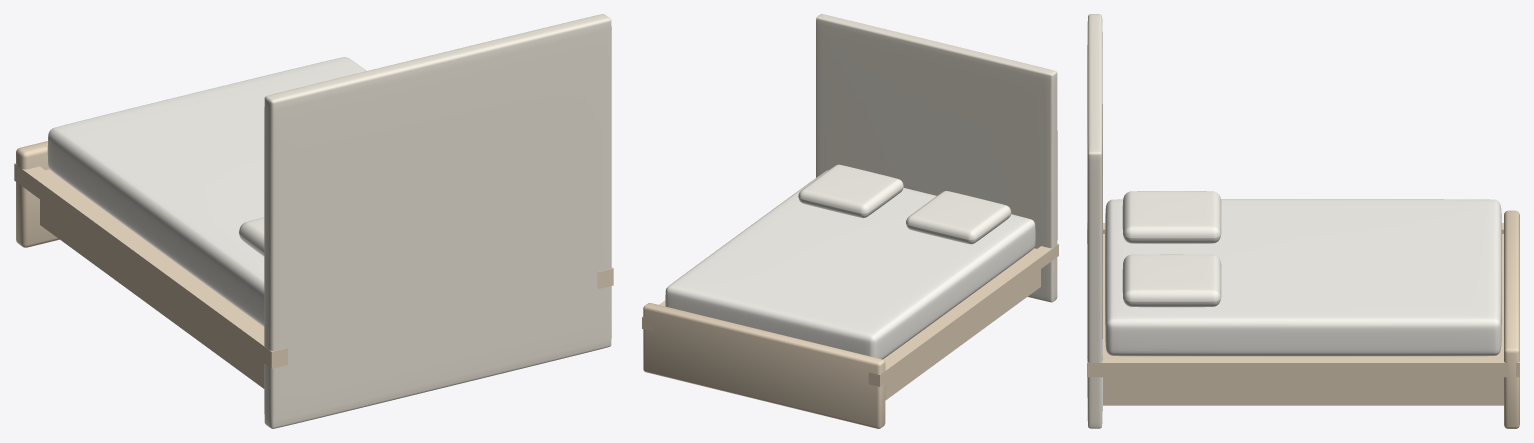
3 renders of one model, left to right at view 1: azimuth 30°, elevation 25°; view 2: azimuth 150°, elevation 25°; view 3: azimuth 270°, elevation 25°, orthographic. The views are drawn at different scales.
Visible parts, largest first — view 1: Headboard, Mattress, BedFrame, Footboard, Pillow; view 2: Headboard, Mattress, Footboard, BedFrame, Pillow, Pillow.001; view 3: Mattress, BedFrame, Headboard, Pillow.001, Pillow, Footboard.
Part boxes in pixels (x1,y1,x2,y2): Headboard: (264,14,611,428); Mattress: (47,57,366,326); BedFrame: (14,163,613,388); Footboard: (16,141,59,247); Pillow: (239,217,264,256); Headboard: (816,14,1057,302); Mattress: (665,170,1035,359); Footboard: (643,303,885,428); BedFrame: (642,244,1058,400); Pillow: (906,191,1011,244); Pillow.001: (798,164,903,218); Mattress: (1105,199,1501,356); BedFrame: (1087,223,1519,405); Headboard: (1087,14,1102,428); Pillow.001: (1122,254,1221,307); Pillow: (1122,191,1221,243); Footboard: (1504,210,1519,428).
Size of the model in its own units: 1.68 by 1.55 by 2.19.
